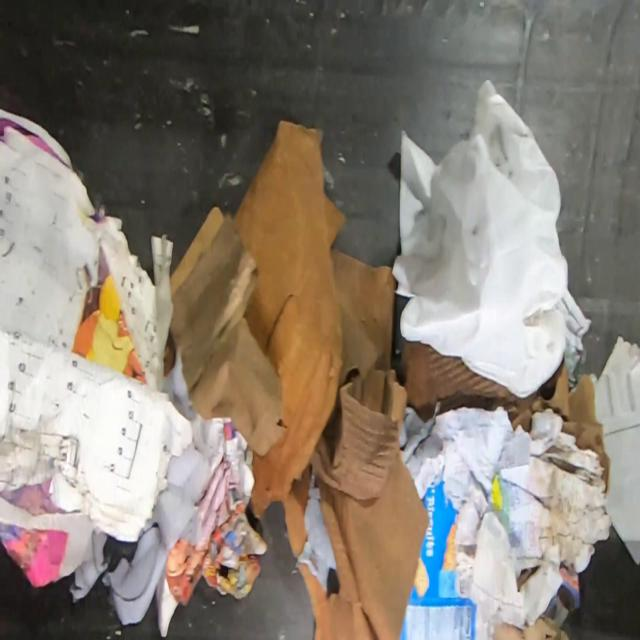cardboard: (234, 118, 348, 520), (396, 342, 610, 493), (170, 204, 288, 458), (280, 447, 430, 639), (309, 248, 408, 501), (602, 425, 640, 567), (493, 614, 573, 639)
rigid_plastic: (588, 334, 640, 438)
soft_plastic: (391, 78, 593, 399)
